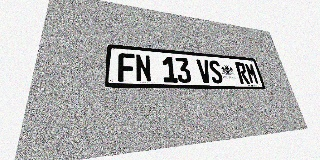1: (161, 56, 178, 83)
3: (175, 57, 192, 83)
F: (118, 53, 135, 82)
M: (244, 63, 259, 84)
N: (135, 54, 152, 82)
R: (235, 62, 250, 84)
S: (208, 60, 224, 84)
V: (196, 59, 212, 83)
